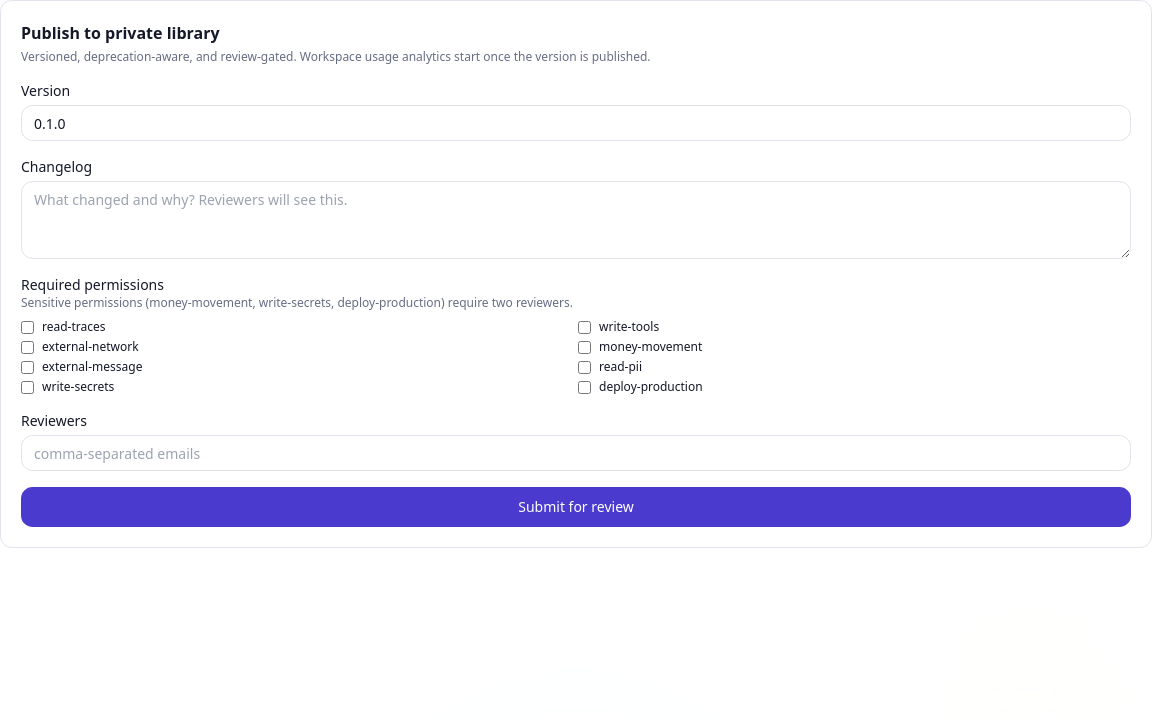
Test case: PrivateSkillPublisher › rejects an incomplete submission and lists the errors
What coordinates should you click on to do the following:
click the button with test id "publisher-submit"
I would click on:
 (576, 507)
Its box is [21,487,1131,527].
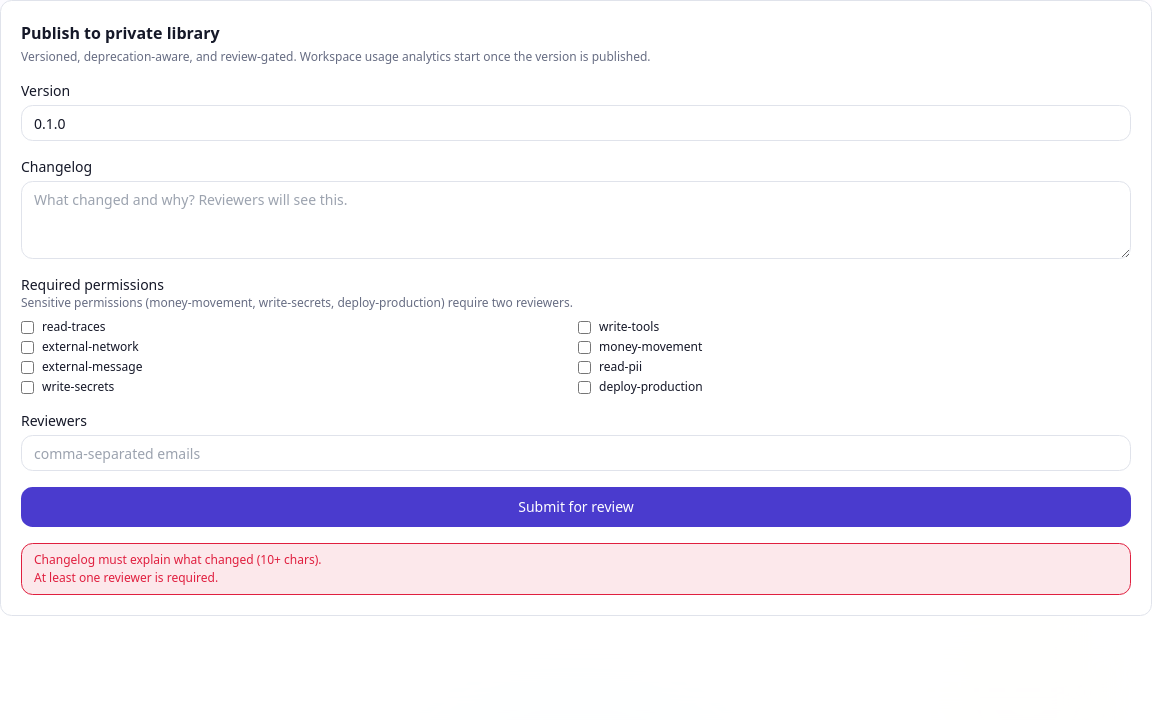
Expected: the message with test id "publisher-result" shows "Changelog", [34,551,322,568]
Expected: the message with test id "publisher-result" shows "reviewer", [34,569,218,586]
